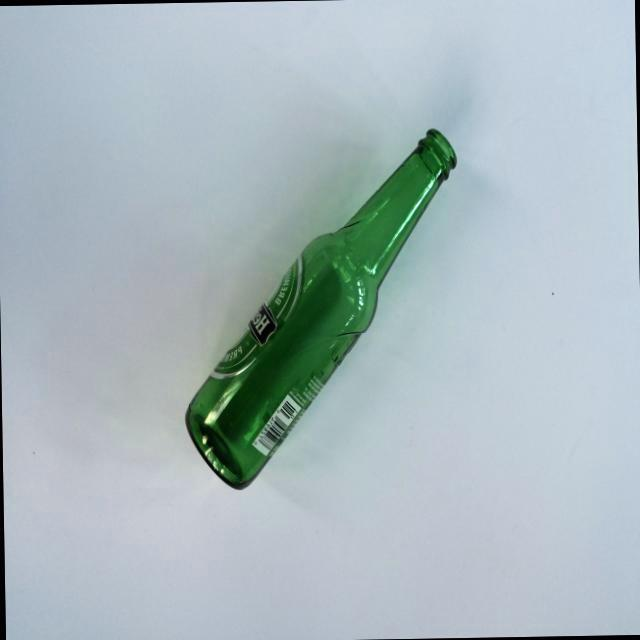glass: (174, 117, 468, 496)
